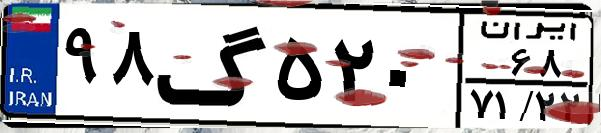0: (385, 28, 445, 110)
1: (495, 70, 520, 125)
2: (330, 28, 385, 110), (560, 70, 590, 125), (535, 70, 560, 125)
5: (270, 28, 330, 110)
6: (508, 27, 537, 80)
7: (470, 70, 495, 125)
8: (110, 28, 156, 98), (537, 27, 568, 80)
9: (57, 26, 110, 100)
گ: (156, 12, 270, 120)
